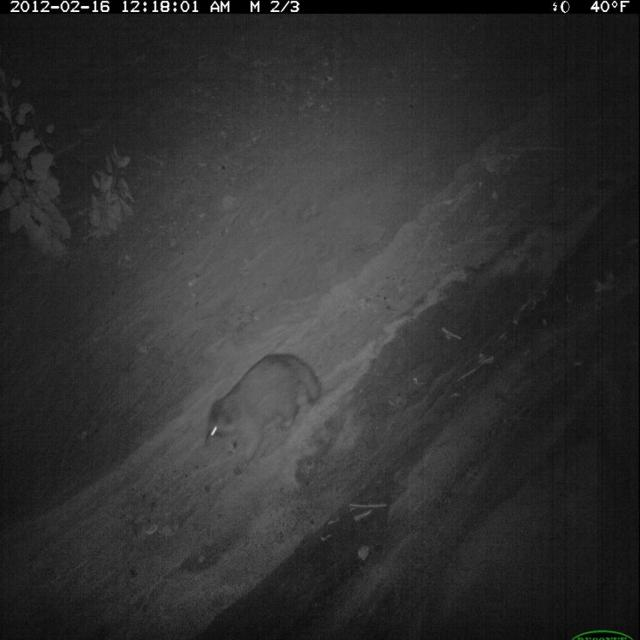raccoon: (206, 347, 324, 480)
